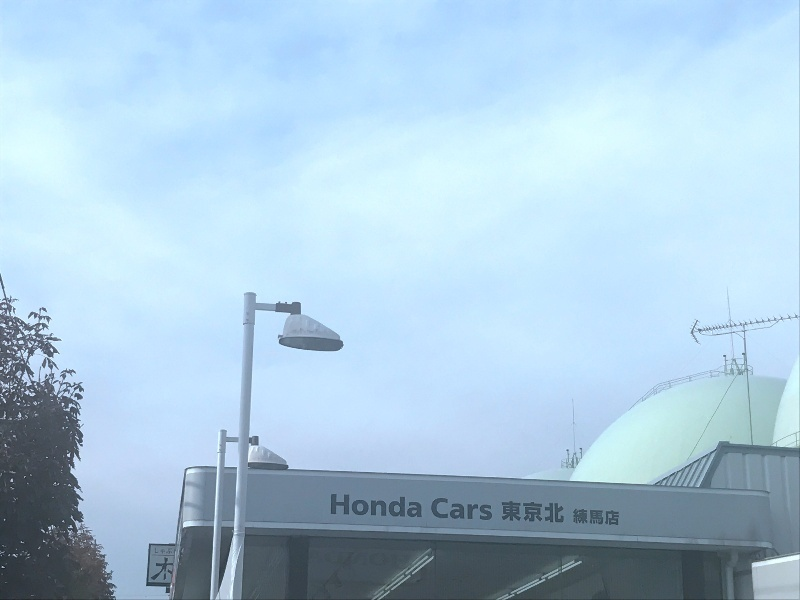text: (337, 494, 352, 519), (353, 494, 368, 519), (369, 494, 384, 519), (385, 494, 400, 519), (401, 494, 416, 519), (433, 497, 448, 522), (449, 497, 464, 522), (465, 497, 480, 522), (513, 500, 528, 524), (529, 500, 544, 524), (545, 500, 560, 524), (161, 557, 175, 582), (481, 497, 493, 522), (577, 508, 592, 526), (593, 508, 608, 526), (501, 500, 512, 524), (609, 508, 619, 526), (153, 557, 160, 582), (417, 494, 423, 519), (331, 494, 336, 519), (161, 548, 174, 555), (561, 500, 564, 524), (573, 508, 576, 526), (154, 548, 160, 555), (431, 497, 432, 522)
